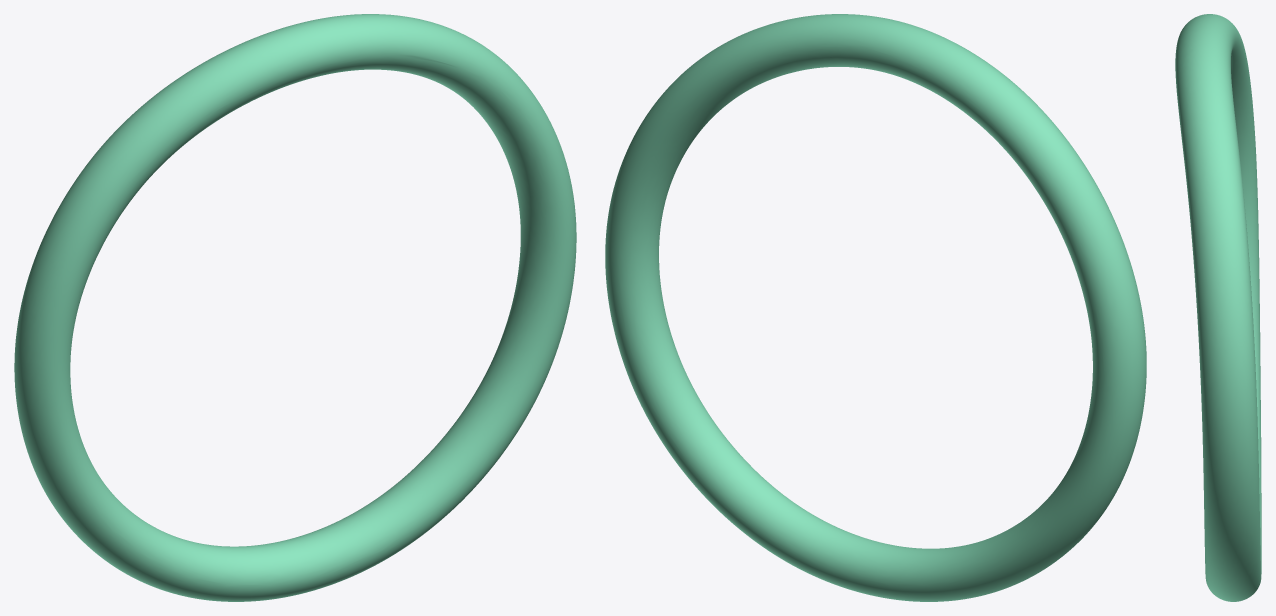
3 renders of one model, left to right at view 1: azimuth 30°, elevation 25°; view 2: azimuth 150°, elevation 25°; view 3: azimuth 270°, elevation 25°, orthographic. The views are drawn at different scales.
Visible parts, largest first — view 1: Metal03; view 2: Metal03; view 3: Metal03.
Part boxes in pixels (x1,y1,x2,y2): Metal03: (14,14,576,601); Metal03: (605,14,1146,601); Metal03: (1175,14,1261,601).
Bounding box in the file's own units: 20.88 × 20.88 × 3.06.
